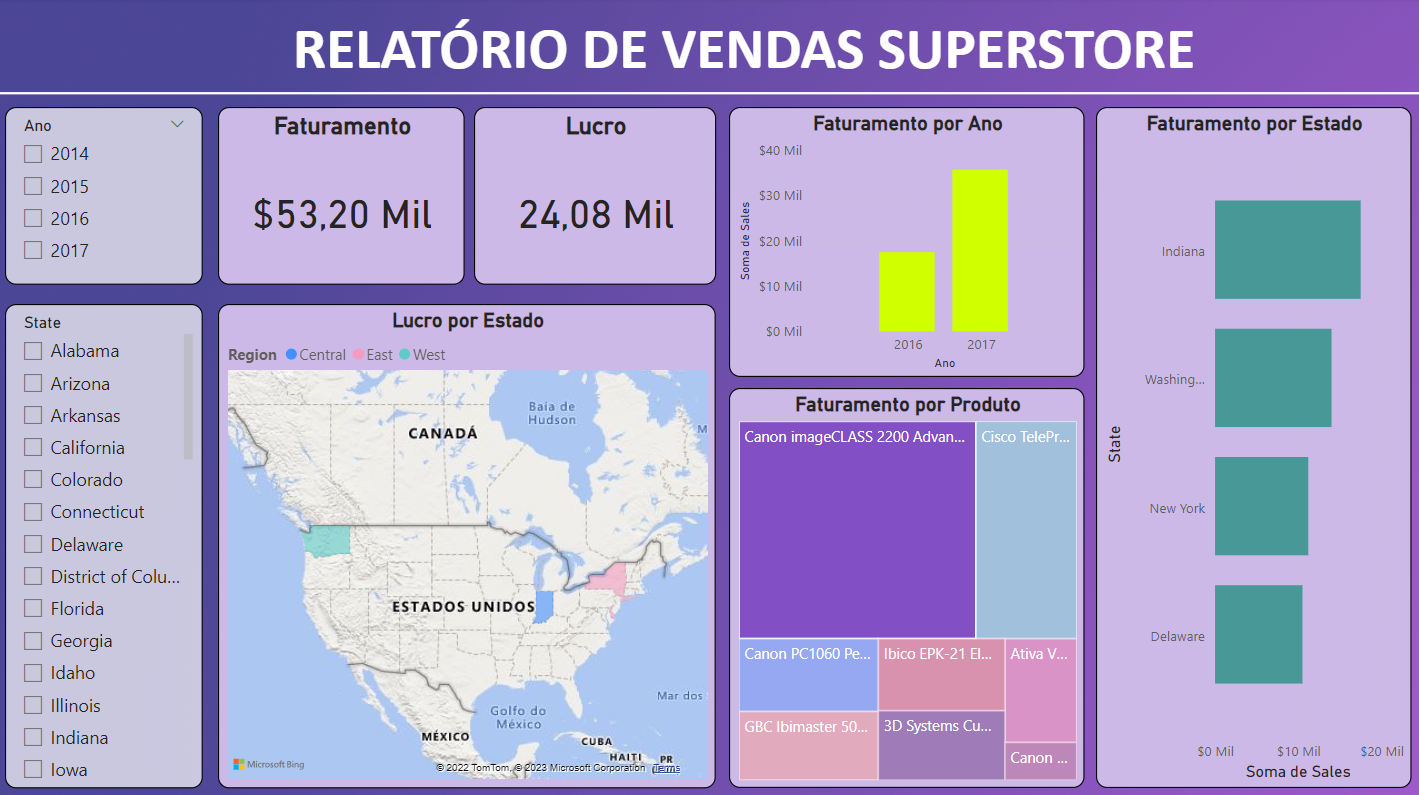

The page's visual inventory and layout, read from the dashboard file:
{"tool":"powerbi","page":{"name":"Página 1","canvas":[1280,720],"ordinal":0},"visuals":[{"type":"barChart","title":"Faturamento por Estado","fields":{"Category":["Sample - Superstore.State"],"Y":["Sum(Sample - Superstore.Sales)"]},"box":[988.4,98.1,283.5,613],"z":0},{"type":"slicer","fields":{"Values":["Sample - Superstore.Ano"]},"box":[6.3,98.1,178.2,160.2],"z":1000},{"type":"slicer","fields":{"Values":["Sample - Superstore.State"]},"box":[6.3,275.4,178.2,435.7],"z":2000},{"type":"columnChart","title":"Faturamento por Ano","fields":{"Y":["Sum(Sample - Superstore.Sales)"],"Category":["Sample - Superstore.Ano"]},"box":[658,98.1,320.5,243],"z":3000},{"type":"card","title":"Faturamento","fields":{"Values":["Sum(Sample - Superstore.Sales)"]},"box":[198,98.1,222.3,160.2],"z":4000},{"type":"filledMap","title":"Lucro por Estado","fields":{"Category":["Sample - Superstore.State"],"Series":["Sample - Superstore.Region"]},"box":[198,275.4,448.3,435.7],"z":5000},{"type":"textbox","box":[157.5,7.2,1028,78.3],"z":6000},{"type":"shape","box":[0,79.2,1280,12.6],"z":7000},{"type":"treemap","title":"Faturamento por Produto","fields":{"Group":["Sample - Superstore.Product Name"],"Values":["Sum(Sample - Superstore.Sales)"]},"box":[658,351.1,320.5,360.1],"z":8000},{"type":"card","title":"Lucro","fields":{"Values":["Sum(Sample - Superstore.Profit)"]},"box":[428.5,98.1,217.8,160.2],"z":8001}]}

Visuals, with their boxes in screenshot pixels (x1, y1, x2, y2), scaled from the page's 1280x720 canvas onto the 1419x795 screenshot:
"Faturamento por Estado" barChart: 1096,108,1410,785
slicer - Sample - Superstore.Ano: 7,108,205,285
slicer - Sample - Superstore.State: 7,304,205,785
"Faturamento por Ano" columnChart: 729,108,1085,377
"Faturamento" card: 220,108,466,285
"Lucro por Estado" filledMap: 220,304,716,785
textbox: 175,8,1314,94
shape: 0,87,1418,101
"Faturamento por Produto" treemap: 729,388,1085,785
"Lucro" card: 475,108,716,285
